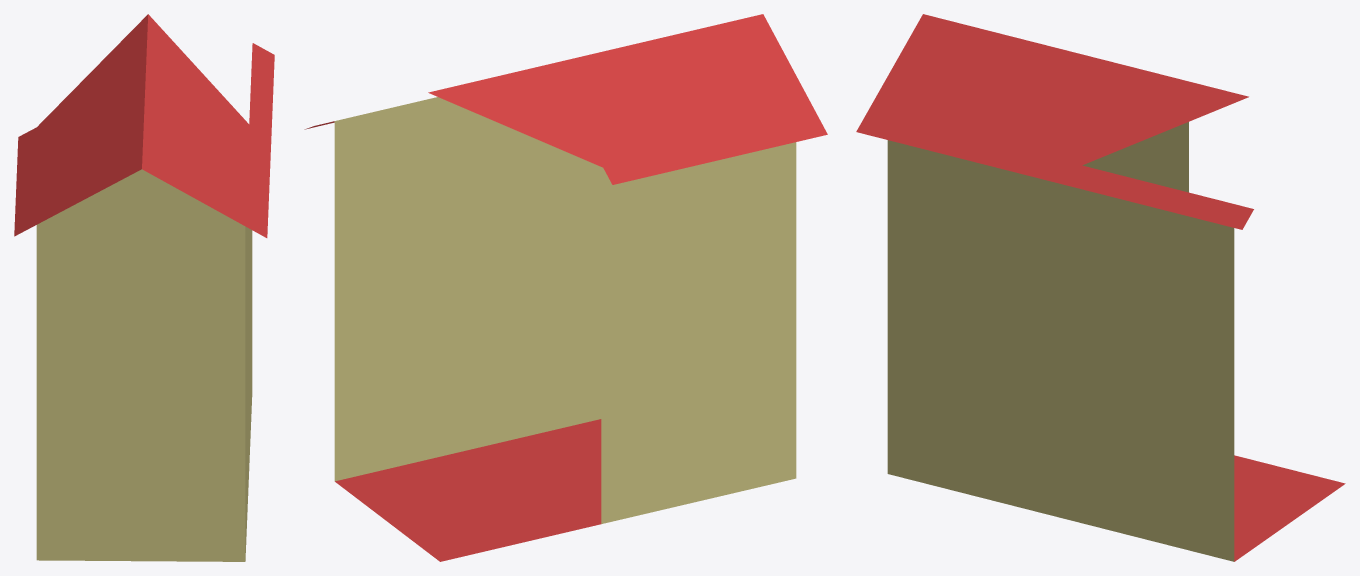
The picture shows the model from 3 angles, left to right: view 1: azimuth 30°, elevation 25°; view 2: azimuth 150°, elevation 25°; view 3: azimuth 270°, elevation 25°; orthographic projection. The views are drawn at different scales.
Size of the model in its own units: 9.91 by 10.62 by 9.96.
